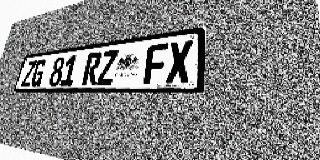1: (59, 55, 79, 86)
8: (48, 56, 66, 86)
F: (143, 43, 169, 84)
G: (30, 59, 47, 87)
R: (81, 51, 102, 85)
X: (166, 40, 193, 83)
Z: (96, 49, 119, 85), (20, 60, 37, 87)
